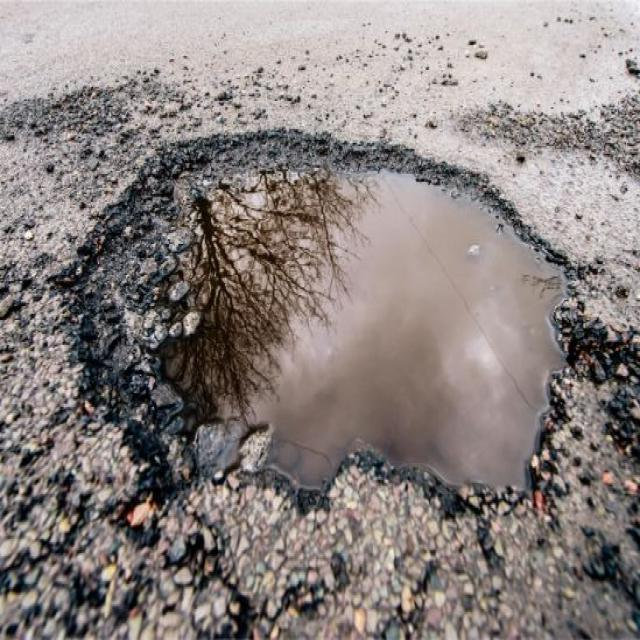Pothole: (42, 118, 588, 528)
